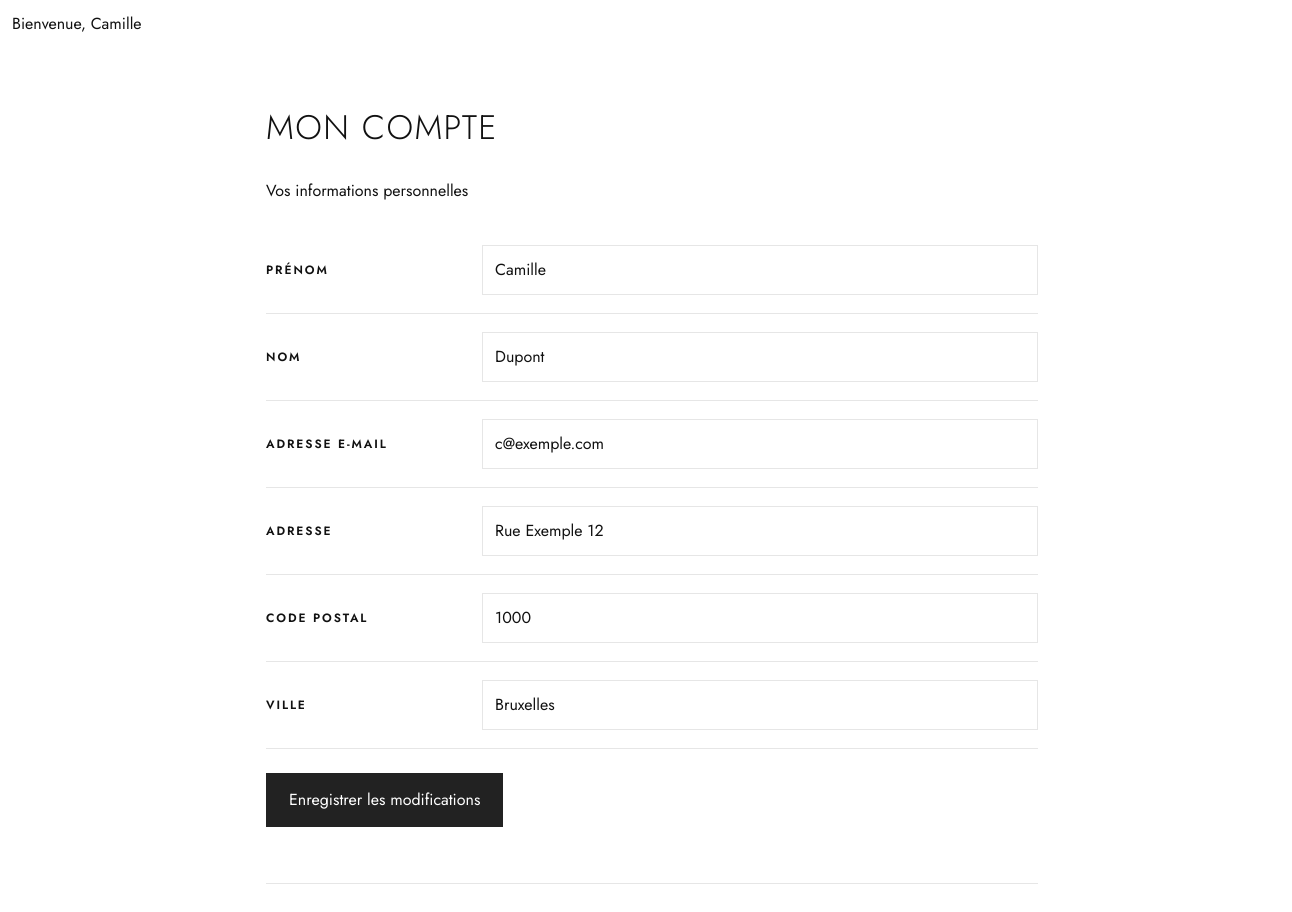
Test: US6 › oublie la session expirée
Expected: the field showing "Bruxelles" is shown, [482,680,1038,730]
Click the button "Enregistrer les modifications".
click(385, 800)  # box [266,773,503,827]
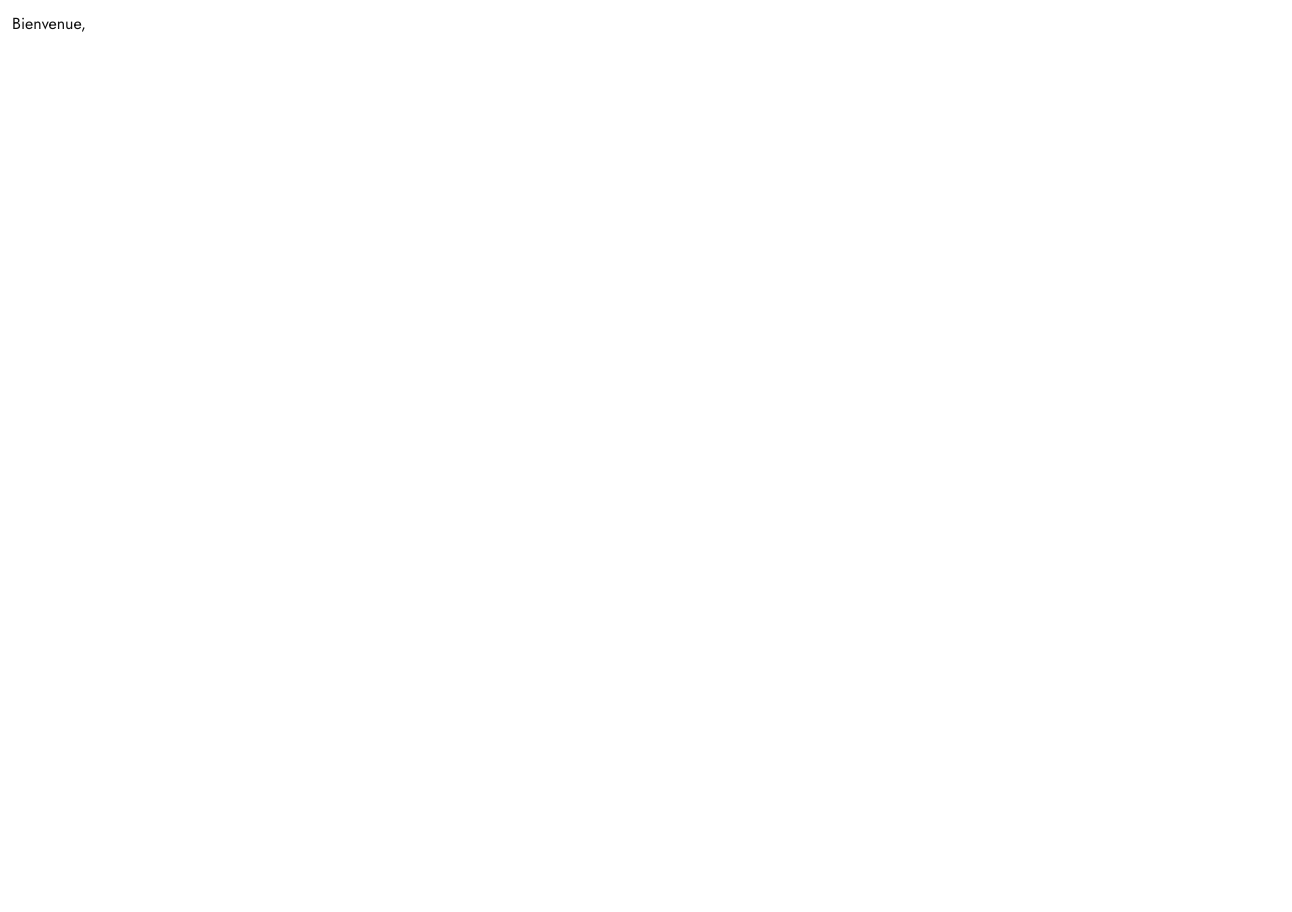
Now the form is gone
